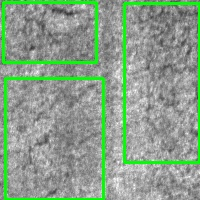crazing: (124, 3, 199, 162), (5, 78, 103, 199), (3, 2, 96, 62)
